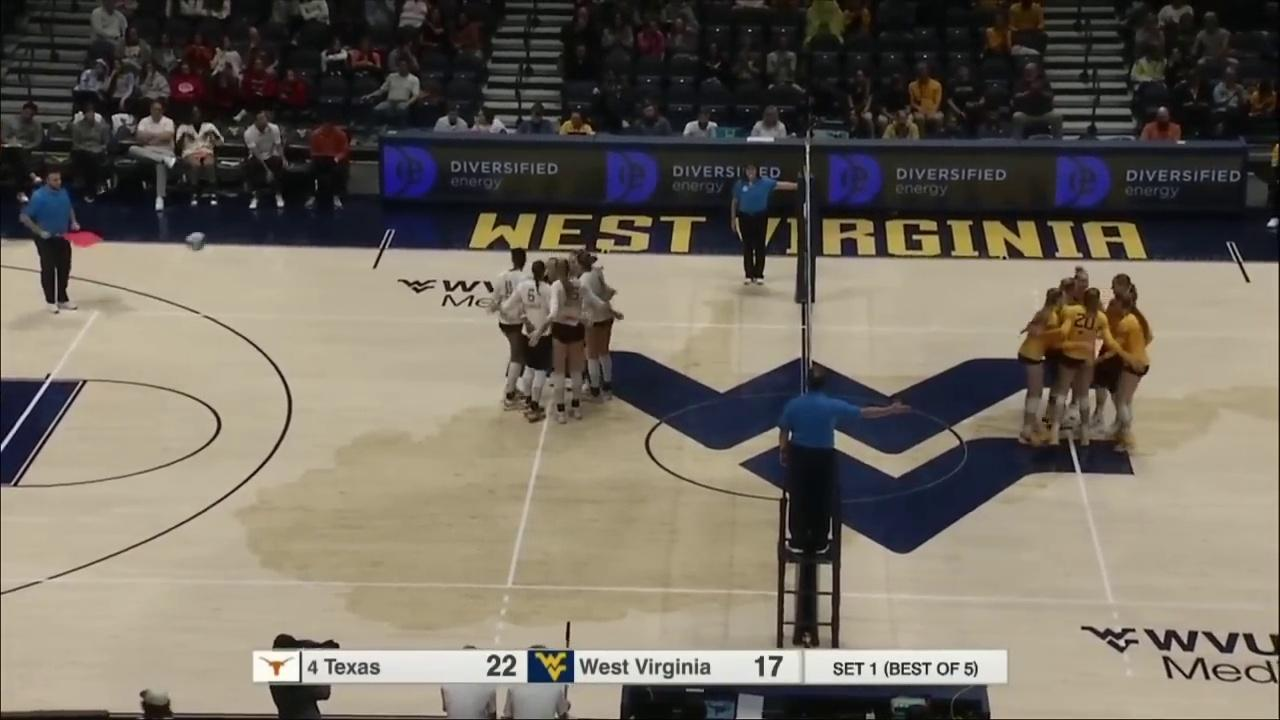player: (1102, 276, 1141, 436), (1105, 298, 1145, 449), (1061, 288, 1098, 447), (1024, 285, 1060, 445), (550, 261, 585, 420), (498, 251, 532, 409), (518, 261, 551, 422), (581, 253, 612, 402), (566, 251, 596, 393), (1069, 268, 1095, 430), (1053, 280, 1079, 430), (542, 257, 566, 395)
refree: (782, 370, 857, 558), (28, 172, 79, 315), (739, 165, 769, 287)
